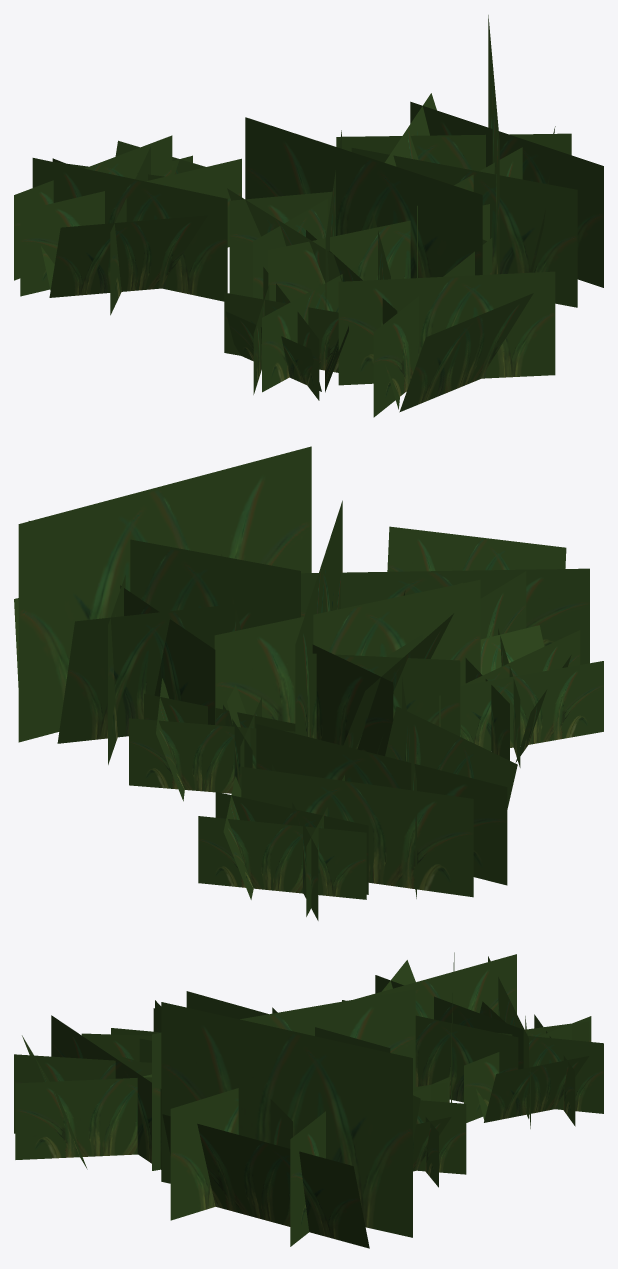
File: kuanyecao_43.FBX
3 views of the same model, one above another, from view 1: azimuth 30°, elevation 25°; view 2: azimuth 150°, elevation 25°; view 3: azimuth 270°, elevation 25° (orthographic). The views are drawn at different scales.
Visible parts, largest first — view 1: kuanyecao_43; view 2: kuanyecao_43; view 3: kuanyecao_43.
Boxes of the visible parts, left/top/right/bottom form: kuanyecao_43: left=14, top=15, right=603, bottom=417; kuanyecao_43: left=14, top=446, right=603, bottom=920; kuanyecao_43: left=14, top=952, right=603, bottom=1248.
Size of the model in its own units: 475 by 179 by 531.
